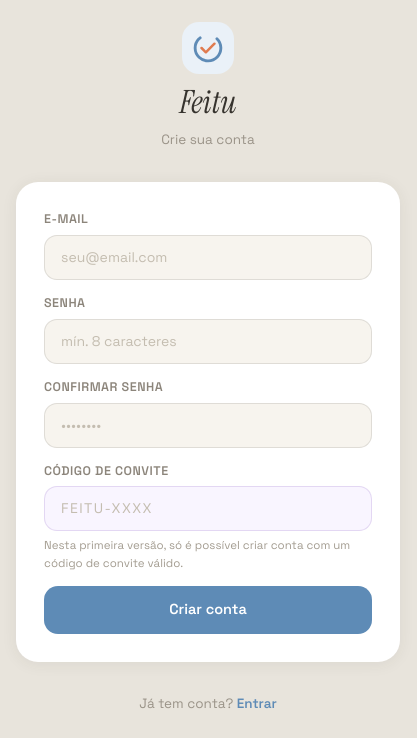
it: RegisterPage › exibe erro se senha muito curta
Type "a@test.com" into the field with placeholder "seu@email.com" at (208, 258), box top-left (44, 235), bottom-right (372, 280)
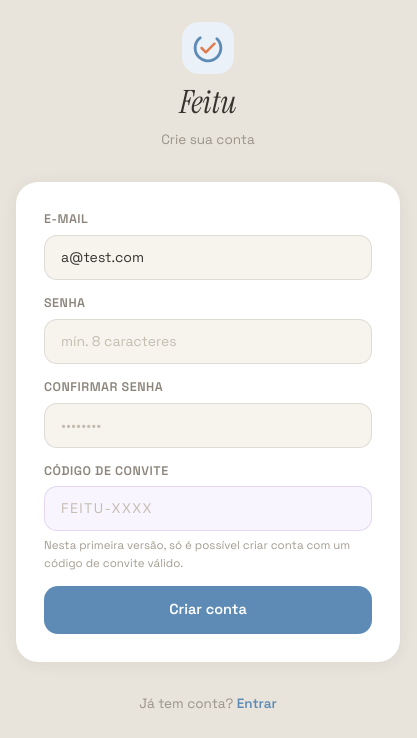
Type "123" into the password field with placeholder "mín. 8 caracteres" at (208, 341), box top-left (44, 319), bottom-right (372, 364)
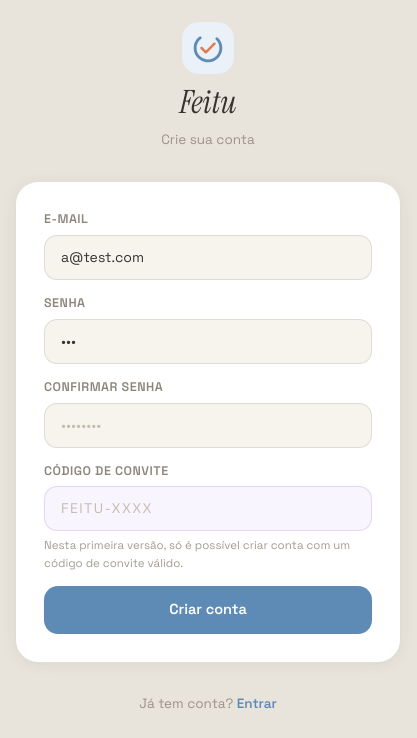
Type "123" into the password field with placeholder "••••••••" at (208, 425), box top-left (44, 403), bottom-right (372, 448)
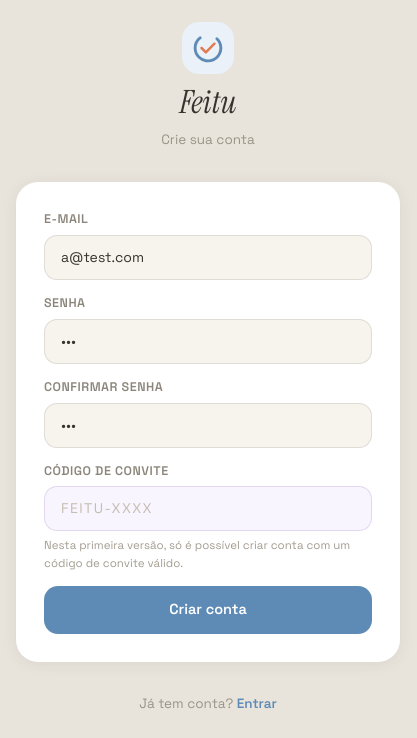
Submit the form, box top-left (44, 210), bottom-right (372, 634)
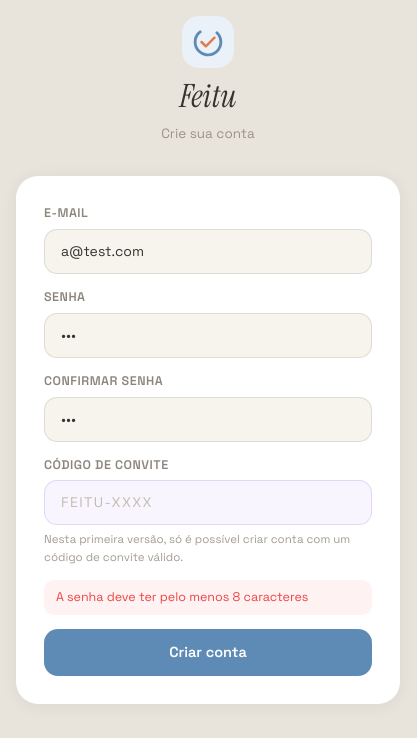
Check: the text "pelo menos 8" is shown, box top-left (56, 589), bottom-right (308, 605)
